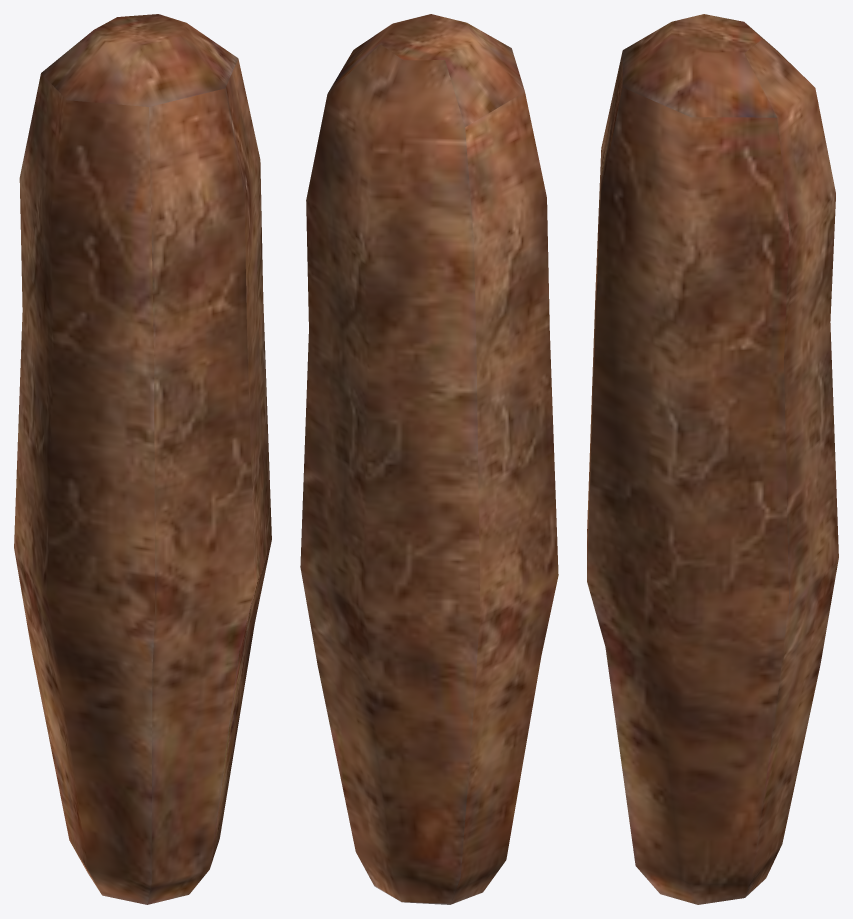
File: Yam.glb
3 views of the same model, side by side, from view 1: azimuth 30°, elevation 25°; view 2: azimuth 150°, elevation 25°; view 3: azimuth 270°, elevation 25° (orthographic).
Parts seen in each view (by area): view 1: Yam; view 2: Yam; view 3: Yam.
Boxes of the visible parts, left/top/right/bottom form: Yam: left=14, top=14, right=271, bottom=904; Yam: left=300, top=14, right=558, bottom=904; Yam: left=587, top=14, right=838, bottom=904.
Bounding box in the file's own units: 0.0962 × 0.3505 × 0.0938.
1 material, 1 textured.
